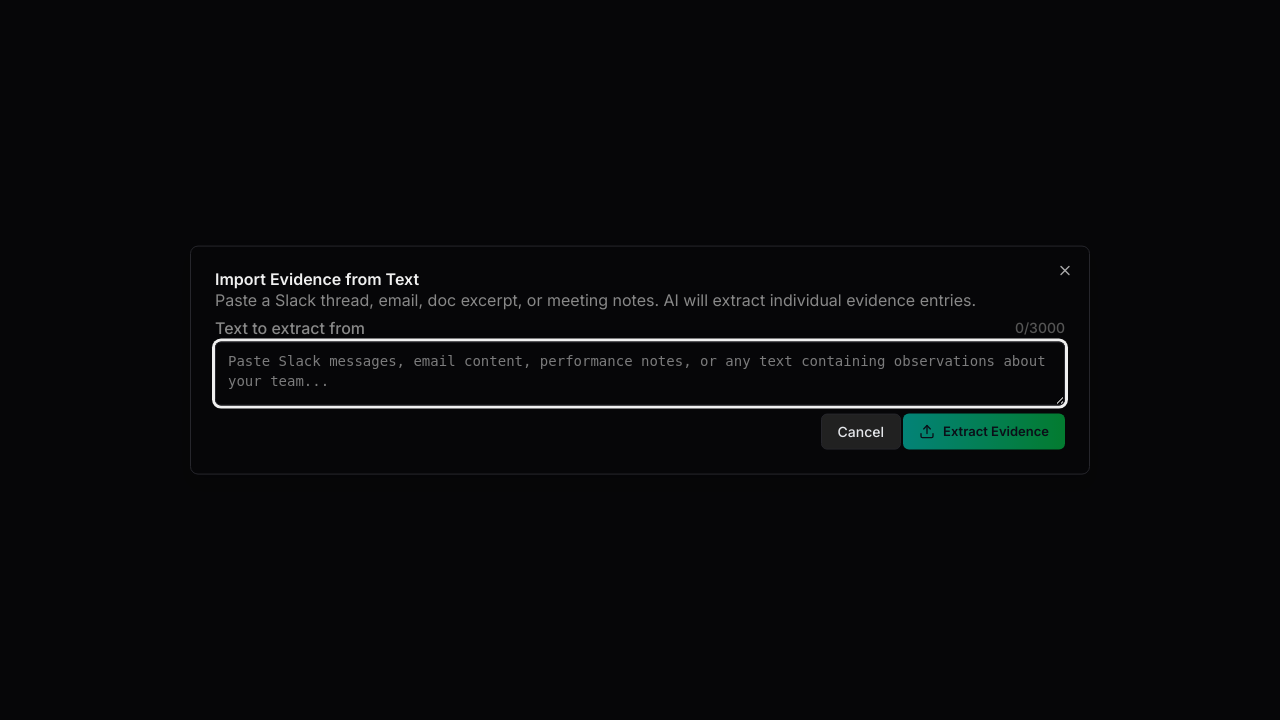
Test: BatchEvidenceImportModal › shows error when AI returns non-JSON
Replace the text in the text box with placeholder "Paste Slack messages" with "Some notes." at (640, 373), box 215,341 -> 1065,405
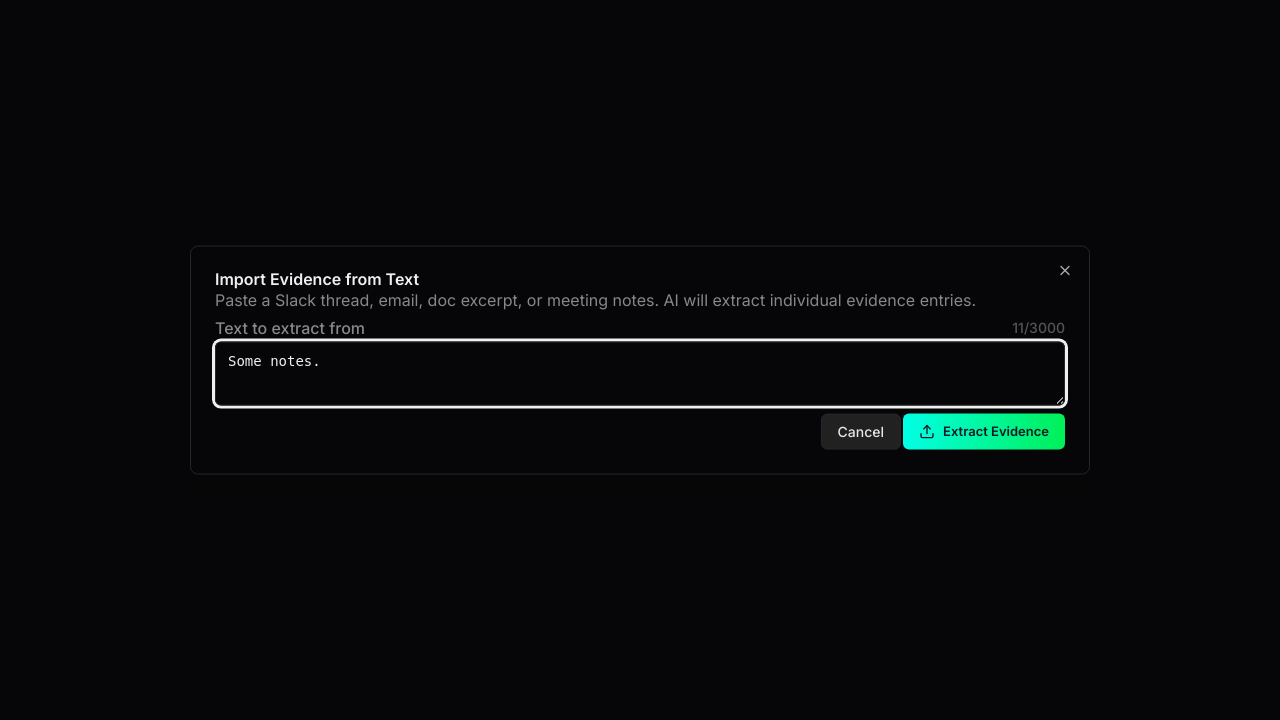
Click the button "Extract Evidence" at (984, 431), box 903,413 -> 1065,449
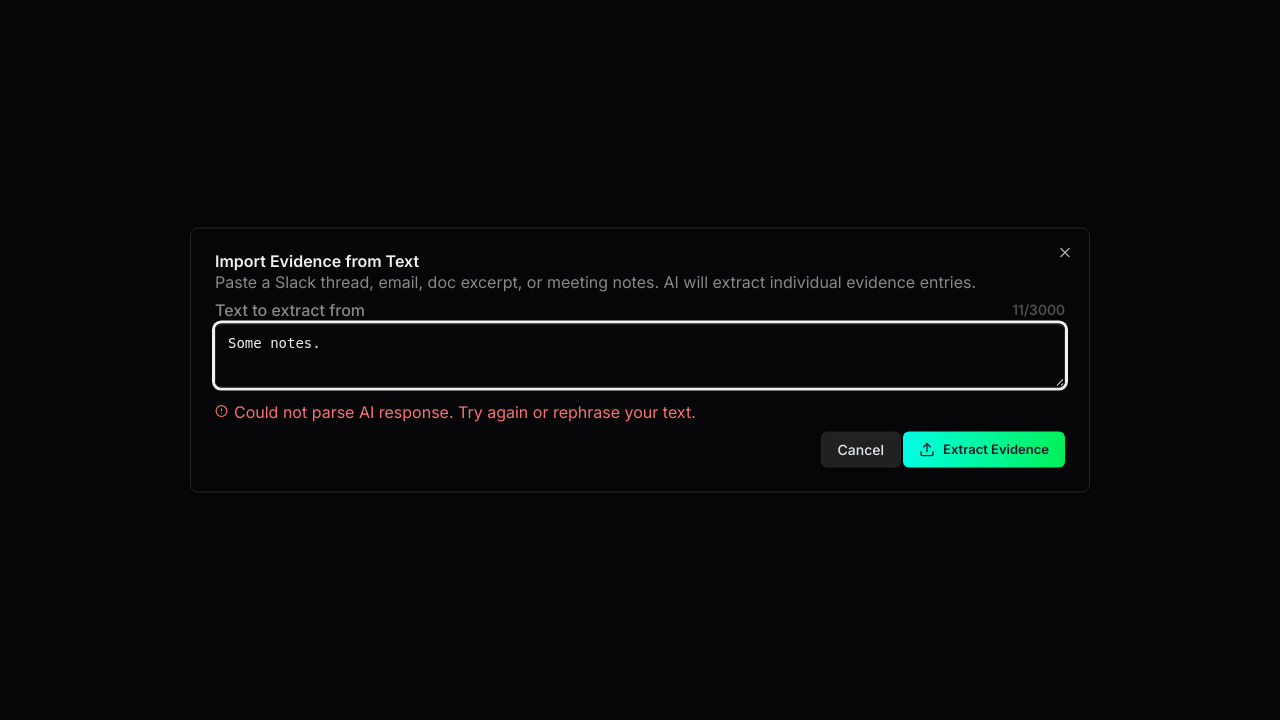
Expected: the text "Could not parse AI response" is shown, 234,401 -> 696,421
